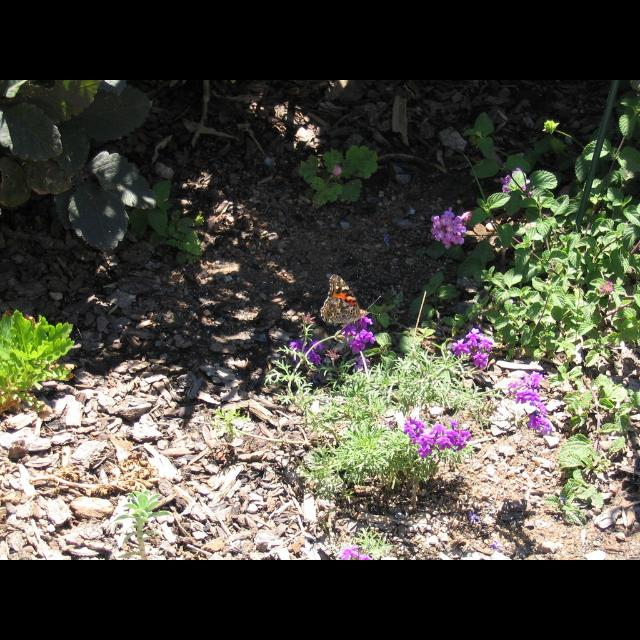Flower: (404, 414, 472, 458), (509, 372, 555, 430), (340, 310, 372, 356), (456, 333, 492, 369), (288, 334, 324, 368), (432, 208, 463, 245), (496, 167, 534, 196), (343, 542, 369, 560), (356, 356, 374, 374), (598, 282, 614, 296), (326, 350, 340, 360)
